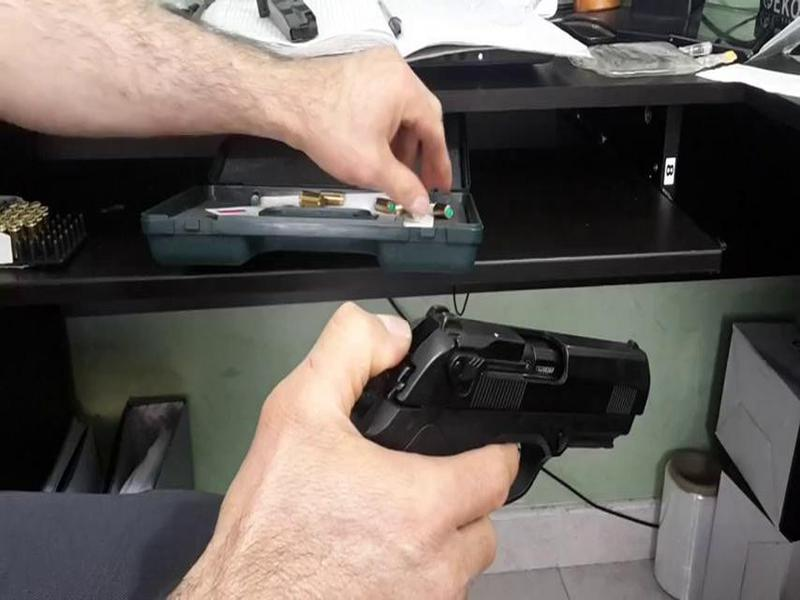Pistola: (329, 279, 667, 518)
